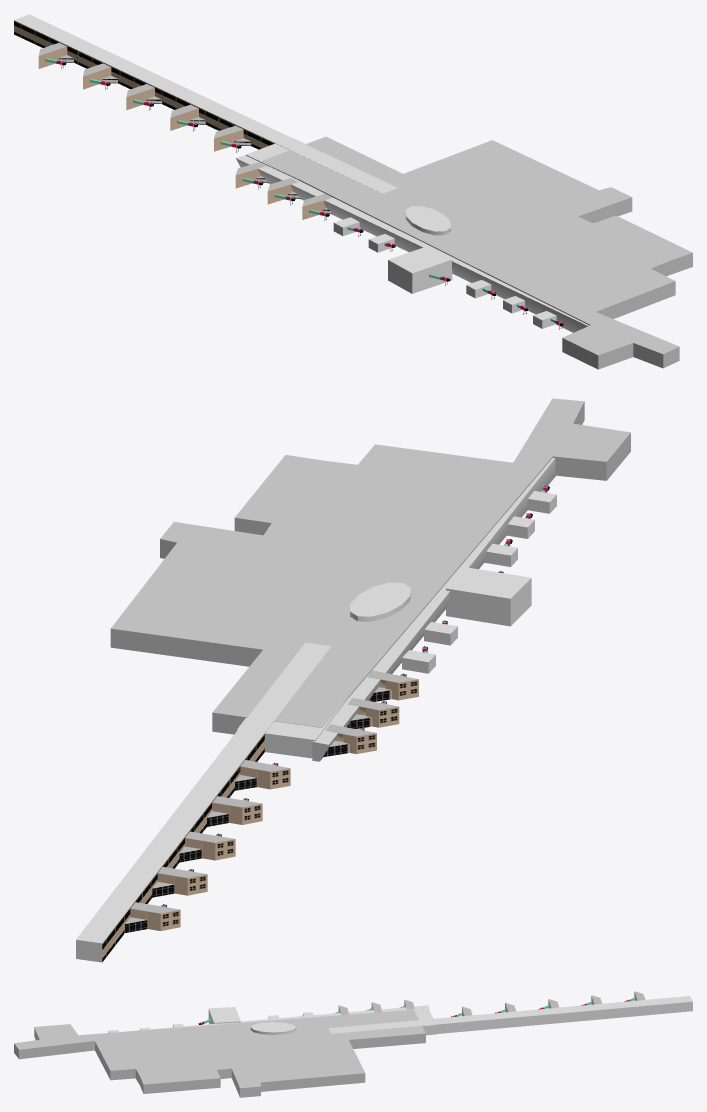
Rendered from Project Name (3).glb.
The picture shows the model from 3 angles, top to bottom: view 1: azimuth 30°, elevation 25°; view 2: azimuth 150°, elevation 25°; view 3: azimuth 270°, elevation 25°; orthographic projection. The views are drawn at different scales.
Visible parts, largest first — view 1: Buffer Object 14, Buffer Object, Buffer Object 12, Buffer Object 13, Buffer Object 8, Buffer Object 10; view 2: Buffer Object 14, Buffer Object, Buffer Object 13, Buffer Object 9 (×7), Buffer Object 12, Buffer Object 8, Buffer Object 10; view 3: Buffer Object 14, Buffer Object, Buffer Object 13, Buffer Object 12, Buffer Object 10.
Boxes of the visible parts, box(x1,y1,x2,y2) form: Buffer Object 14: box(262, 136, 692, 369); Buffer Object: box(14, 14, 397, 193); Buffer Object 12: box(235, 155, 589, 332); Buffer Object 13: box(333, 217, 556, 328); Buffer Object 8: box(14, 20, 377, 191); Buffer Object 10: box(405, 206, 450, 235); Buffer Object 14: box(110, 398, 630, 734); Buffer Object: box(76, 642, 348, 962); Buffer Object 13: box(402, 491, 556, 673); Buffer Object 9 (×7): box(125, 706, 399, 932); Buffer Object 12: box(312, 458, 555, 761); Buffer Object 8: box(102, 689, 298, 961); Buffer Object 10: box(350, 582, 410, 621); Buffer Object 14: box(14, 1009, 425, 1097); Buffer Object: box(328, 996, 692, 1035); Buffer Object 13: box(108, 1007, 313, 1032); Buffer Object 12: box(106, 1005, 429, 1033); Buffer Object 10: box(250, 1022, 296, 1034).
Bounding box in the file's own units: 354 × 27.21 × 1039.
Materials: 105 (44 with a texture image).
